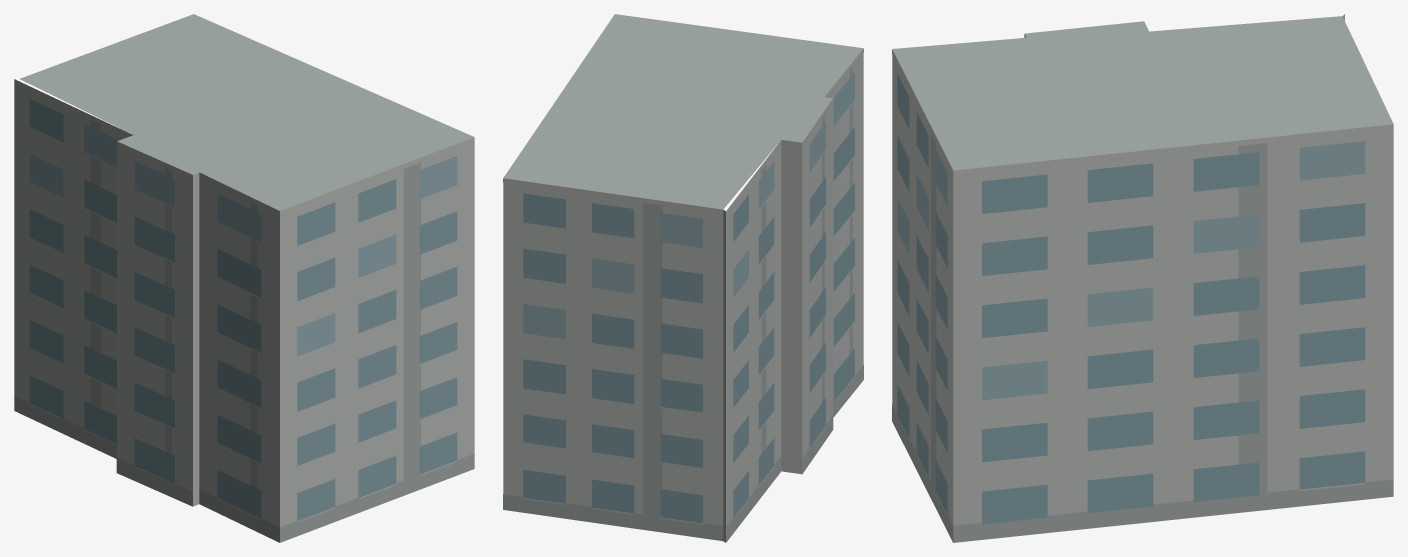
The model's file is survey-upis-32836229.glb.
3 renders of one model, left to right at view 1: azimuth 30°, elevation 25°; view 2: azimuth 150°, elevation 25°; view 3: azimuth 270°, elevation 25°, orthographic. The views are drawn at different scales.
Parts seen in each view (by area): view 1: survey-upis-32836229.tmp; view 2: survey-upis-32836229.tmp; view 3: survey-upis-32836229.tmp.
Boxes of the visible parts, <box> form: survey-upis-32836229.tmp: <box>14,14,474,542</box>; survey-upis-32836229.tmp: <box>503,14,863,542</box>; survey-upis-32836229.tmp: <box>892,14,1393,542</box>.
Bounding box in the file's own units: 14.97 × 16.6 × 20.28.
